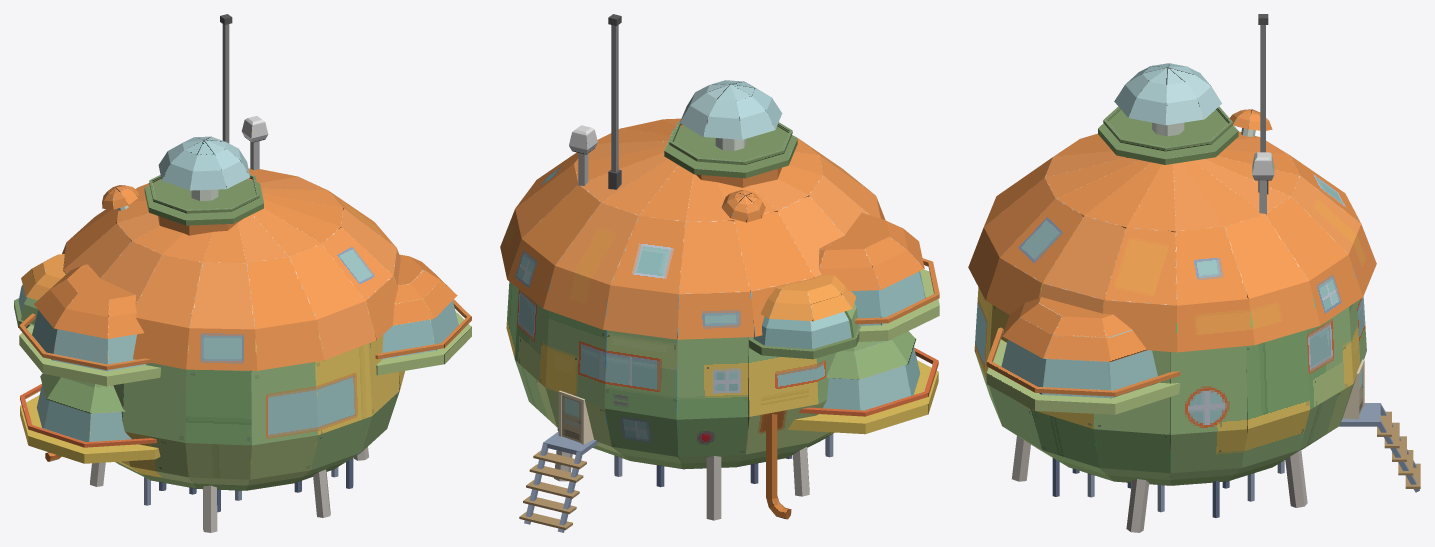
The model's file is F.ber_house_2.gltf.
3 views of the same model, side by side, from view 1: azimuth 30°, elevation 25°; view 2: azimuth 150°, elevation 25°; view 3: azimuth 270°, elevation 25° (orthographic). The views are drawn at different scales.
Visible parts, largest first — view 1: cuboid; view 2: cuboid; view 3: cuboid.
Part boxes in pixels (bbox=[...]): cuboid: bbox=[14, 14, 471, 532]; cuboid: bbox=[500, 14, 939, 532]; cuboid: bbox=[968, 14, 1420, 532].
Size of the model in its own units: 12.78 by 13.01 by 11.32.
Materials: 1 (1 with a texture image).
